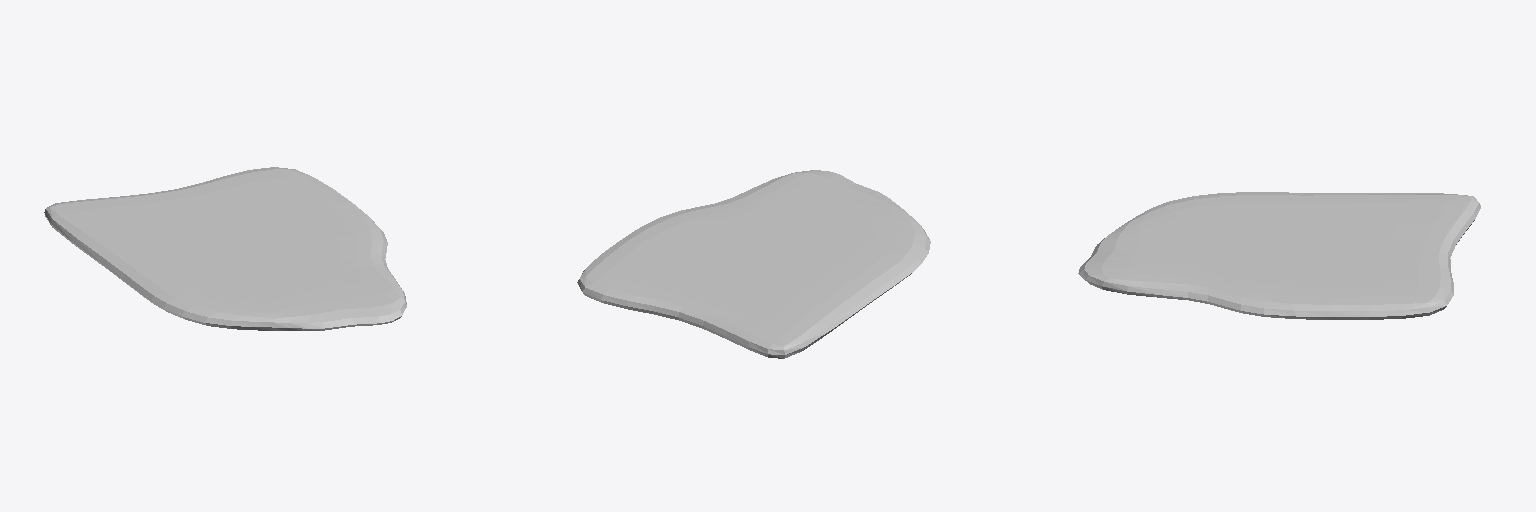
File: pond.obj
The picture shows the model from 3 angles: view 1: azimuth 30°, elevation 25°; view 2: azimuth 150°, elevation 25°; view 3: azimuth 270°, elevation 25°; orthographic projection.
Parts seen in each view (by area): view 1: Cube; view 2: Cube; view 3: Cube.
Part boxes in pixels (bbox=[...]): Cube: bbox=[44, 167, 406, 330]; Cube: bbox=[577, 170, 930, 358]; Cube: bbox=[1078, 192, 1480, 319].
Bounding box in the file's own units: 701 × 38.69 × 976.